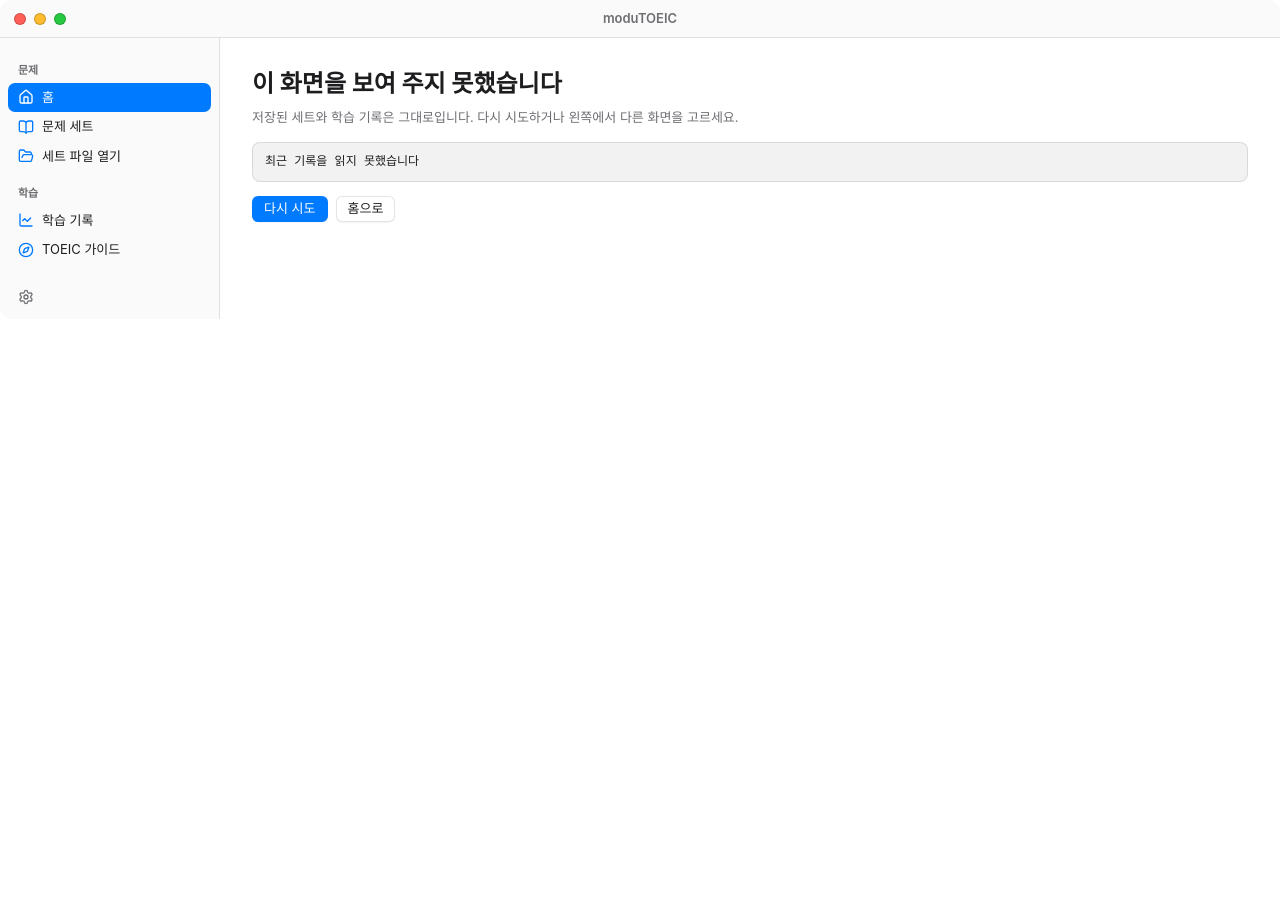
a screen that fails to render leaves the title bar's close button and the sidebar working
The image size is (1280, 900).
expect the message shows "최근 기록을 읽지 못했습니다": met, box left=265, top=154, right=419, bottom=168
expect the button named "닫기" is shown: met, box left=14, top=12, right=26, bottom=24
Click the button "TOEIC 가이드" at (110, 250), box left=8, top=235, right=211, bottom=264
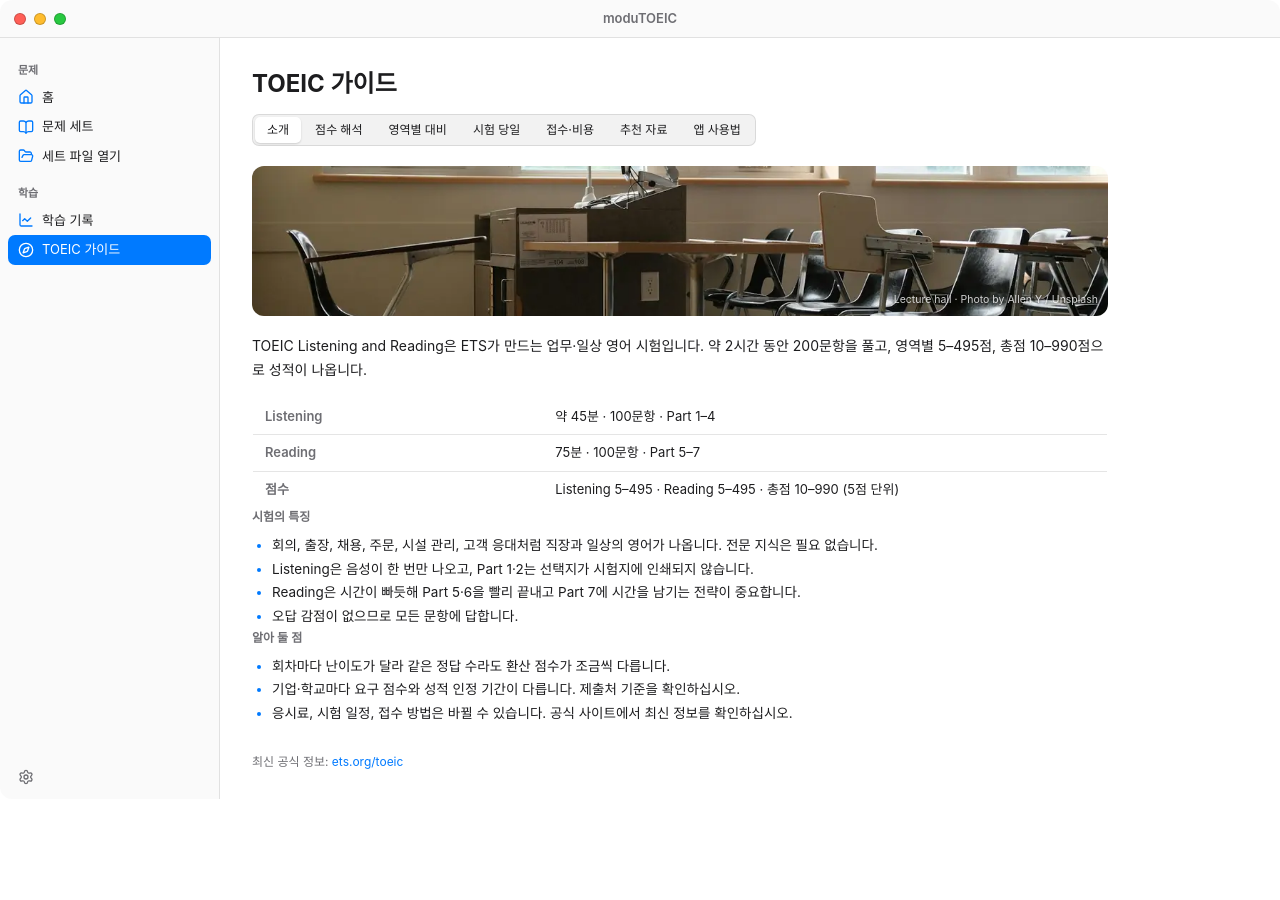
expect the message is gone: met
expect the heading "TOEIC 가이드" is shown: met, box left=252, top=69, right=397, bottom=98
